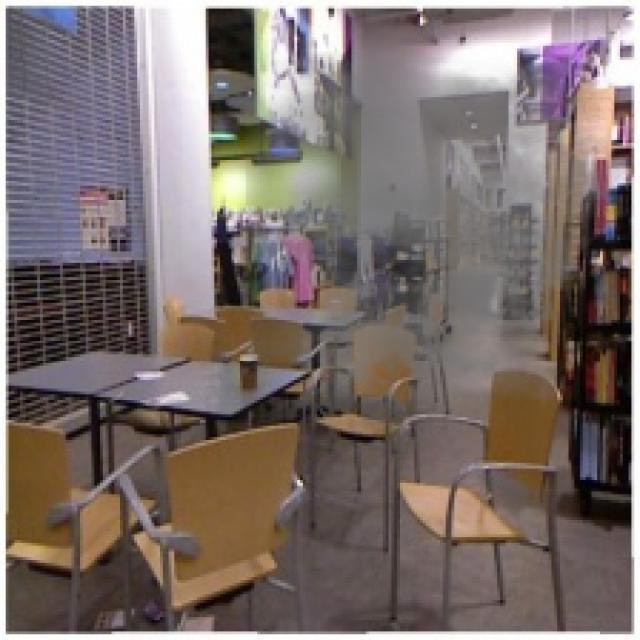Smoke: (246, 51, 628, 400)
